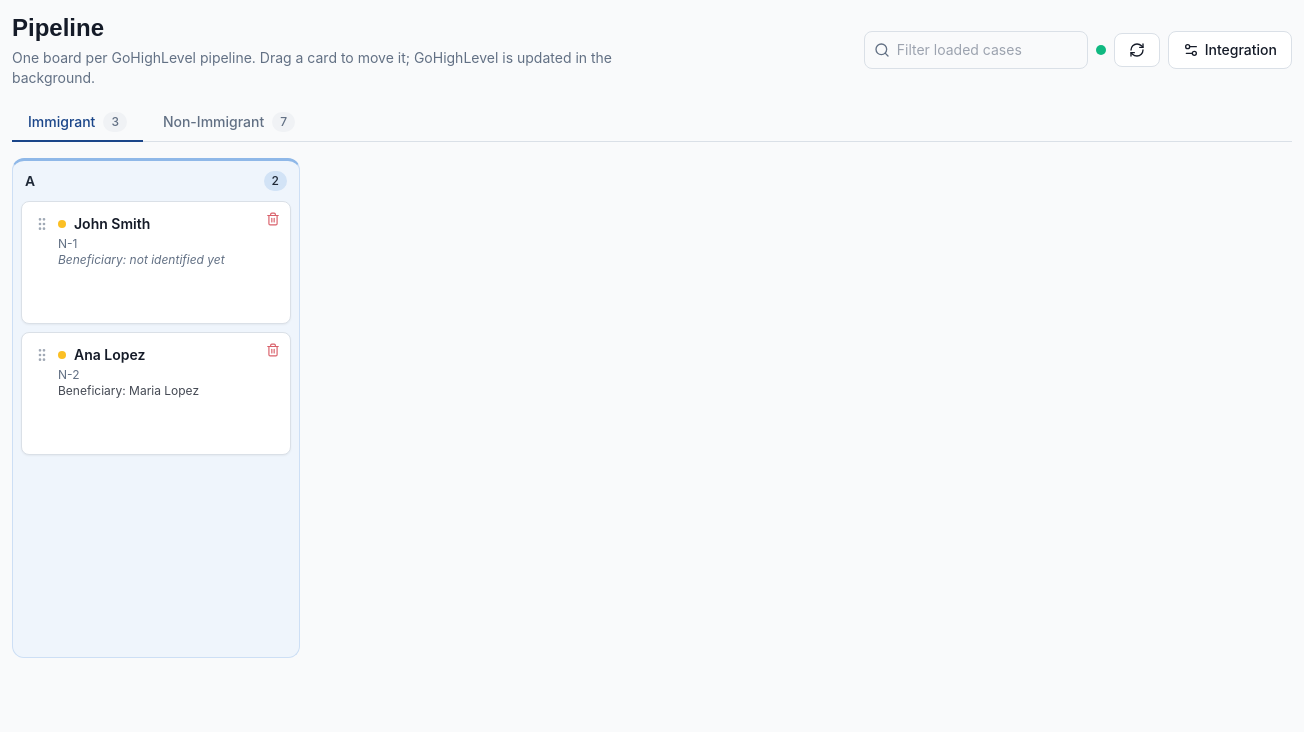
Pipeline page › a family card is ONE card: petitioner as the title, beneficiary underneath
Expected: the text "John Smith" is shown, x1=74 y1=214 x2=150 y2=234
Expected: the text "Beneficiary: not identified yet" is shown, x1=58 y1=252 x2=225 y2=267
Type "maria" into the field labelled "Filter loaded cases" at (976, 50), box x1=864 y1=31 x2=1088 y2=69
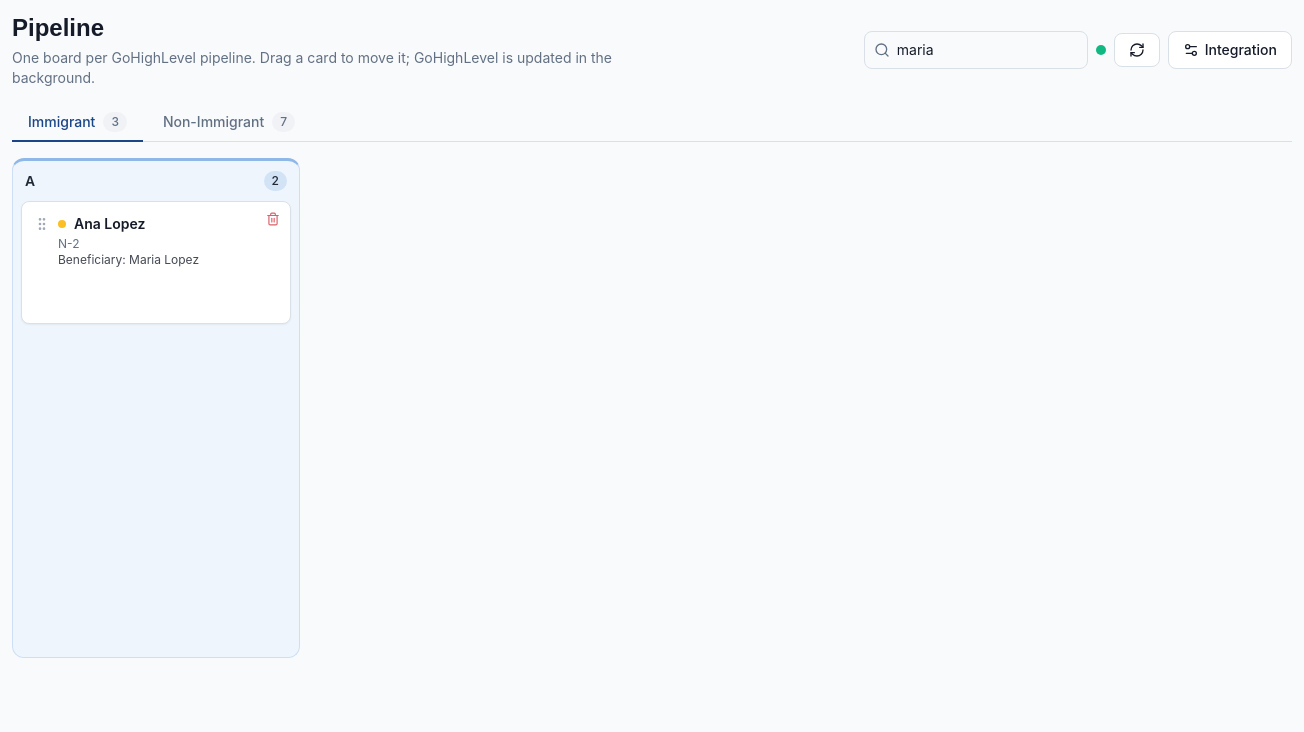
Expected: the text "Ana Lopez" is shown, x1=74 y1=214 x2=146 y2=234
Result: the button "John Smith" is gone
